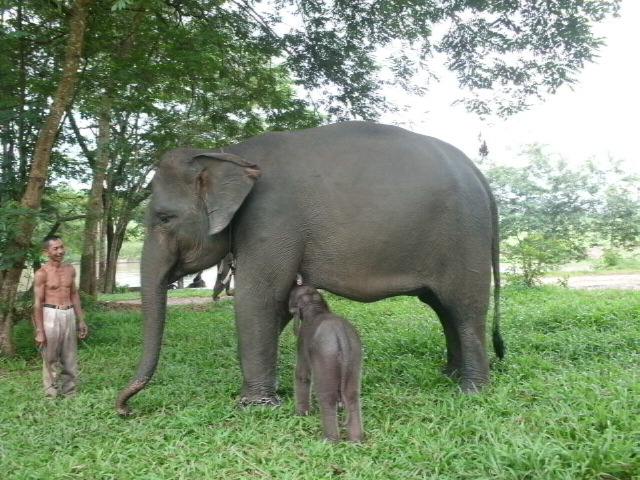elephant: (104, 119, 533, 448), (272, 266, 388, 450)
